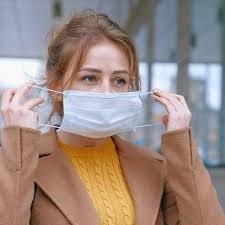Wore Mask Incorrectly: (30, 18, 184, 141)
